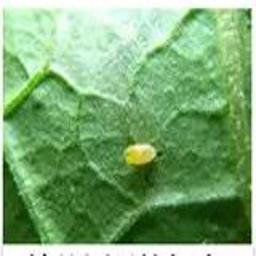liriomyza: (120, 141, 156, 166)
